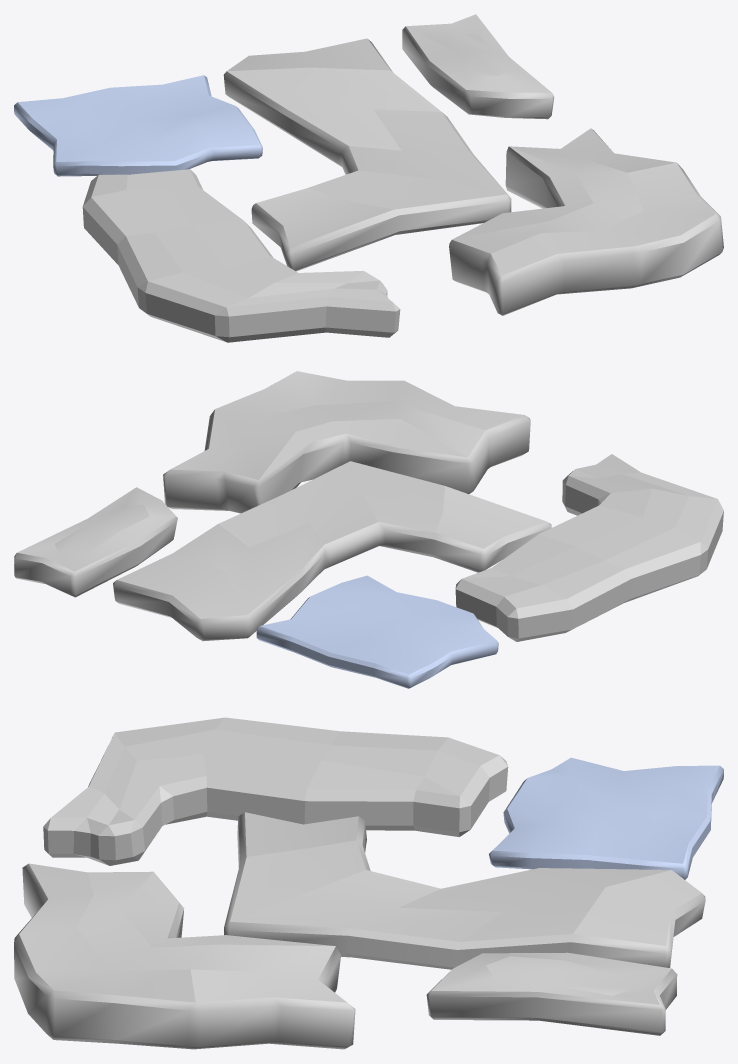
Rendered from floe14.fbx.
The picture shows the model from 3 angles, top to bottom: view 1: azimuth 30°, elevation 25°; view 2: azimuth 150°, elevation 25°; view 3: azimuth 270°, elevation 25°; orthographic projection. The views are drawn at different scales.
Parts seen in each view (by area): view 1: Plane.015, Plane.017, Plane.011, Plane.013, Plane.020; view 2: Plane.015, Plane.017, Plane.011, Plane.013, Plane.020; view 3: Plane.017, Plane.015, Plane.011, Plane.013, Plane.020.
Part boxes in pixels (x1,y1,x2,y2): Plane.015: [223, 38, 511, 271]; Plane.017: [449, 128, 723, 315]; Plane.011: [82, 169, 400, 342]; Plane.013: [14, 75, 262, 176]; Plane.020: [402, 14, 554, 119]; Plane.015: [113, 461, 551, 641]; Plane.017: [163, 371, 530, 513]; Plane.011: [455, 454, 723, 641]; Plane.013: [256, 575, 498, 688]; Plane.020: [14, 487, 177, 597]; Plane.017: [14, 863, 355, 1049]; Plane.015: [224, 812, 705, 969]; Plane.011: [43, 717, 508, 865]; Plane.013: [489, 757, 723, 879]; Plane.020: [426, 952, 677, 1035].
Size of the model in its own units: 369 by 41.08 by 378.
